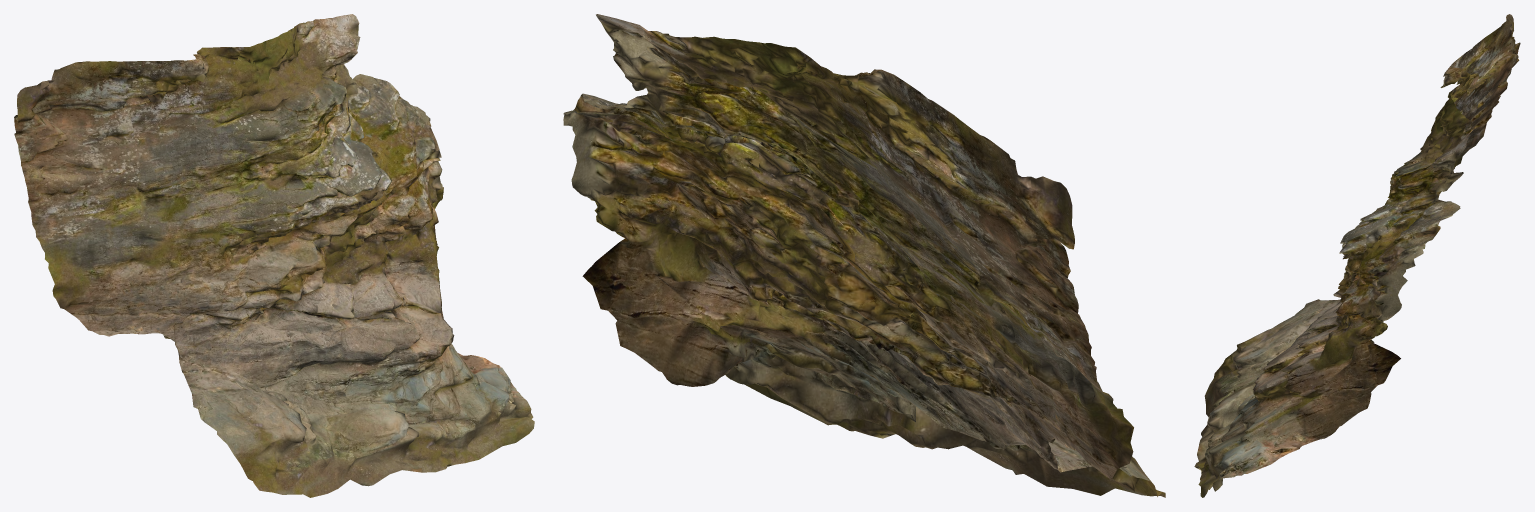
The model's file is rock_face_02-lod0.glb.
3 renders of one model, left to right at view 1: azimuth 30°, elevation 25°; view 2: azimuth 150°, elevation 25°; view 3: azimuth 270°, elevation 25°, orthographic. The views are drawn at different scales.
Visible parts, largest first — view 1: rock_face_02; view 2: rock_face_02; view 3: rock_face_02.
Part boxes in pixels (x1,y1,x2,y2): rock_face_02: (14,14,534,497); rock_face_02: (563,14,1165,497); rock_face_02: (1194,14,1520,497).
Size of the model in its own units: 2.71 by 2.47 by 2.13.
Materials: 1 (1 with a texture image).
